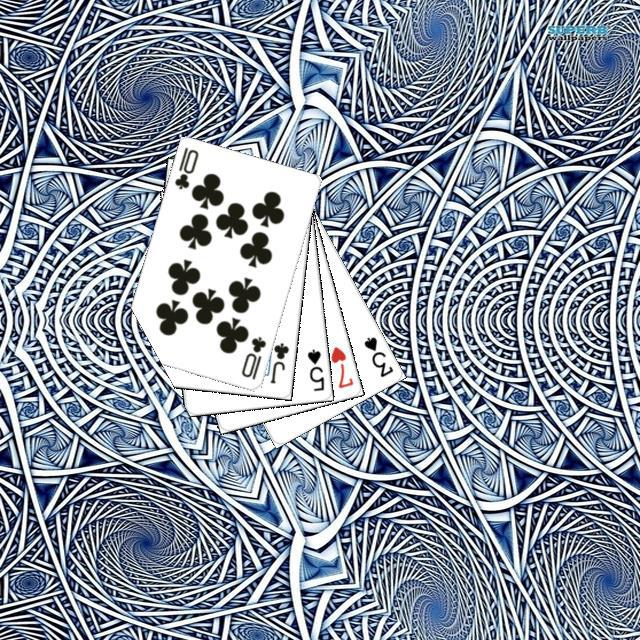10c: (236, 332, 268, 381), (170, 142, 200, 191)
3s: (359, 332, 395, 379)
5s: (303, 344, 326, 393)
7h: (326, 341, 355, 390)
Jc: (265, 338, 291, 385)
